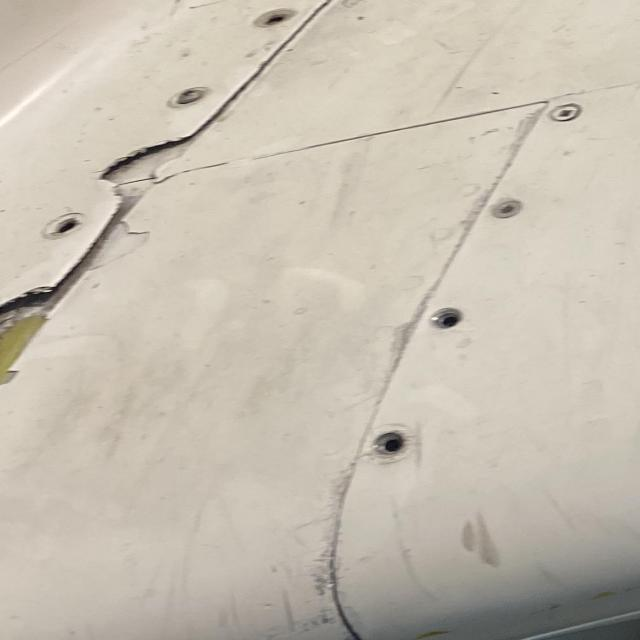Crack: (0, 290, 56, 383), (99, 137, 187, 189), (116, 190, 134, 199)
Missing-head: (38, 213, 79, 237), (368, 431, 404, 458), (250, 8, 293, 26), (428, 307, 460, 329)
Paint-off: (79, 217, 144, 272), (345, 0, 387, 9)
